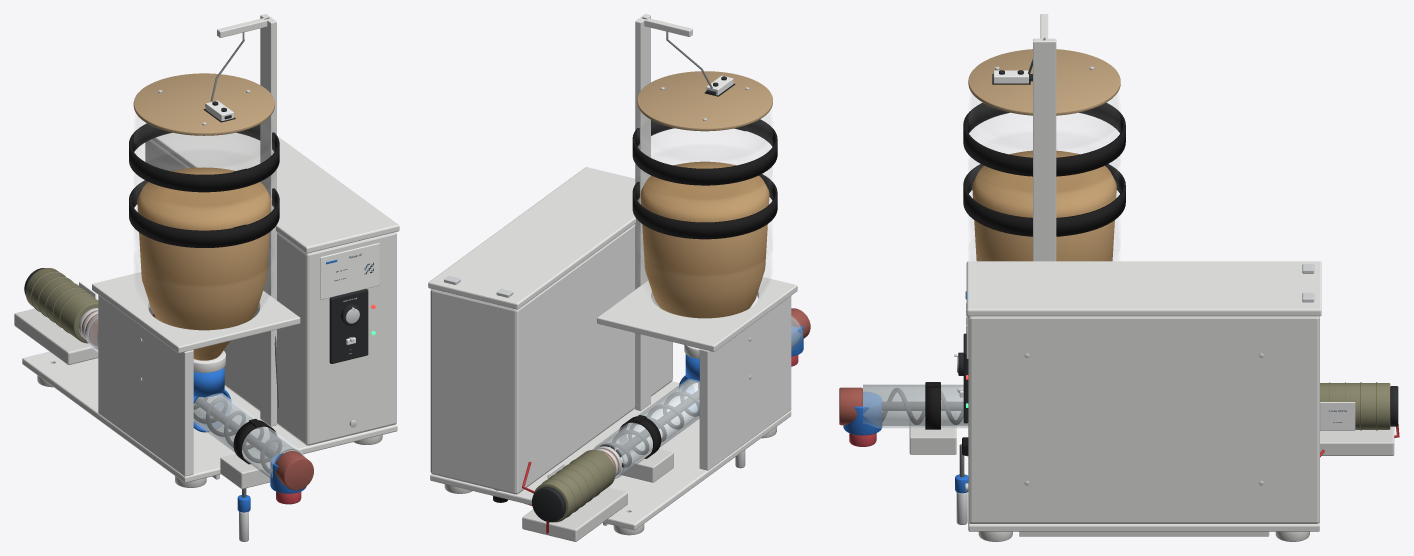
The model's file is feeder-v1.3.0.glb.
3 views of the same model, side by side, from view 1: azimuth 30°, elevation 25°; view 2: azimuth 150°, elevation 25°; view 3: azimuth 270°, elevation 25° (orthographic). The views are drawn at different scales.
Visible parts, largest first — view 1: Chassis, Grain_Fill, Shelf_Support, Chassis_Lid, Hopper_Lid, Base_Plate, Hopper_Glass, Shelf, Post, Tube_Glass, Hopper_Strap_2, Hopper_Strap_1 (+12 smaller); view 2: Chassis, Grain_Fill, Chassis_Lid, Shelf_Support, Base_Plate, Hopper_Lid, Shelf, Hopper_Glass, Tube_Glass, Post, Hopper_Strap_2, Hopper_Strap_1 (+8 smaller); view 3: Chassis, Chassis_Lid, Grain_Fill, Hopper_Lid, Hopper_Glass, Post, Hopper_Strap_2, Tube_Glass, Hopper_Strap_1, Base_Plate, Motor_Body, Motor_Mount (+6 smaller).
Boxes of the visible parts, box(x1,y1,x2,y2) form: Chassis: box(145, 139, 396, 445); Grain_Fill: box(137, 167, 271, 360); Shelf_Support: box(98, 295, 193, 476); Chassis_Lid: box(151, 132, 399, 253); Hopper_Lid: box(133, 73, 274, 135); Base_Plate: box(22, 351, 397, 482); Hopper_Glass: box(134, 116, 274, 310); Shelf: box(92, 272, 300, 353); Post: box(260, 14, 276, 426); Tube_Glass: box(86, 316, 304, 478); Hopper_Strap_2: box(129, 123, 279, 192); Hopper_Strap_1: box(129, 170, 279, 247); Chassis: box(430, 224, 672, 494); Grain_Fill: box(640, 161, 769, 318); Chassis_Lid: box(428, 167, 635, 309); Shelf_Support: box(699, 296, 791, 470); Base_Plate: box(430, 381, 791, 530); Hopper_Lid: box(637, 71, 772, 131); Shelf: box(597, 277, 797, 351); Hopper_Glass: box(637, 112, 772, 299); Tube_Glass: box(593, 316, 802, 478); Post: box(635, 14, 650, 410); Hopper_Strap_2: box(632, 119, 777, 185); Hopper_Strap_1: box(632, 165, 777, 239); Chassis: box(968, 316, 1319, 523); Chassis_Lid: box(966, 261, 1321, 316); Grain_Fill: box(972, 150, 1116, 261); Hopper_Lid: box(968, 49, 1120, 115); Hopper_Glass: box(969, 95, 1119, 260); Post: box(1033, 38, 1056, 261); Hopper_Strap_2: box(963, 102, 1125, 176); Tube_Glass: box(863, 384, 968, 428); Hopper_Strap_1: box(963, 154, 1125, 236); Base_Plate: box(968, 521, 1319, 531); Motor_Body: box(1320, 383, 1390, 429); Motor_Mount: box(1320, 426, 1394, 455).
Size of the model in its own units: 0.359 by 0.7301 by 0.7167.
